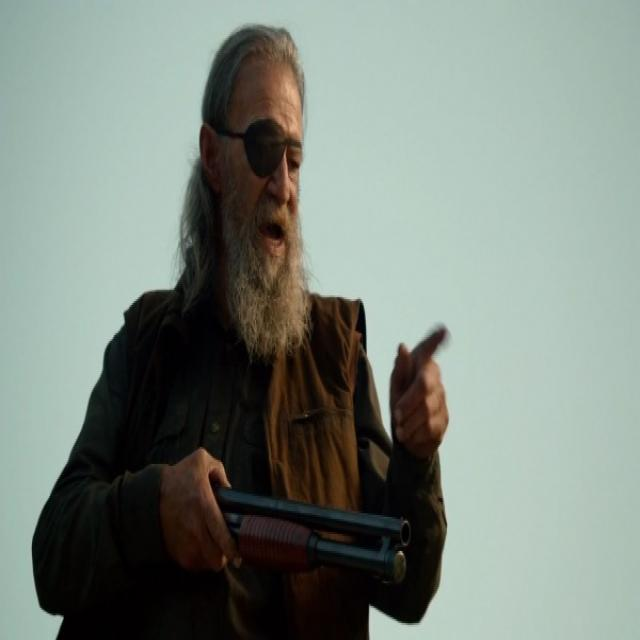rifle: (216, 483, 417, 592)
